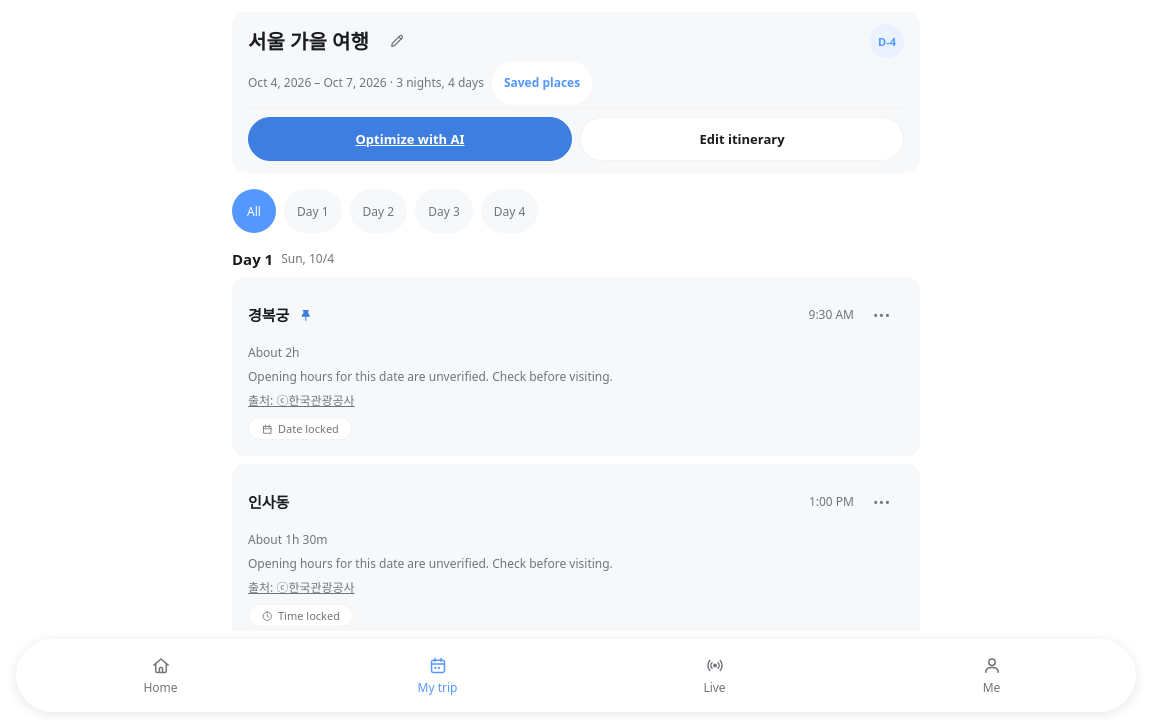
Test case: FE-301-T3 the screen is reachable and named › filters to one day by chip and back to all
Click the button "Day 2": point(378, 211) [350,189,407,233]
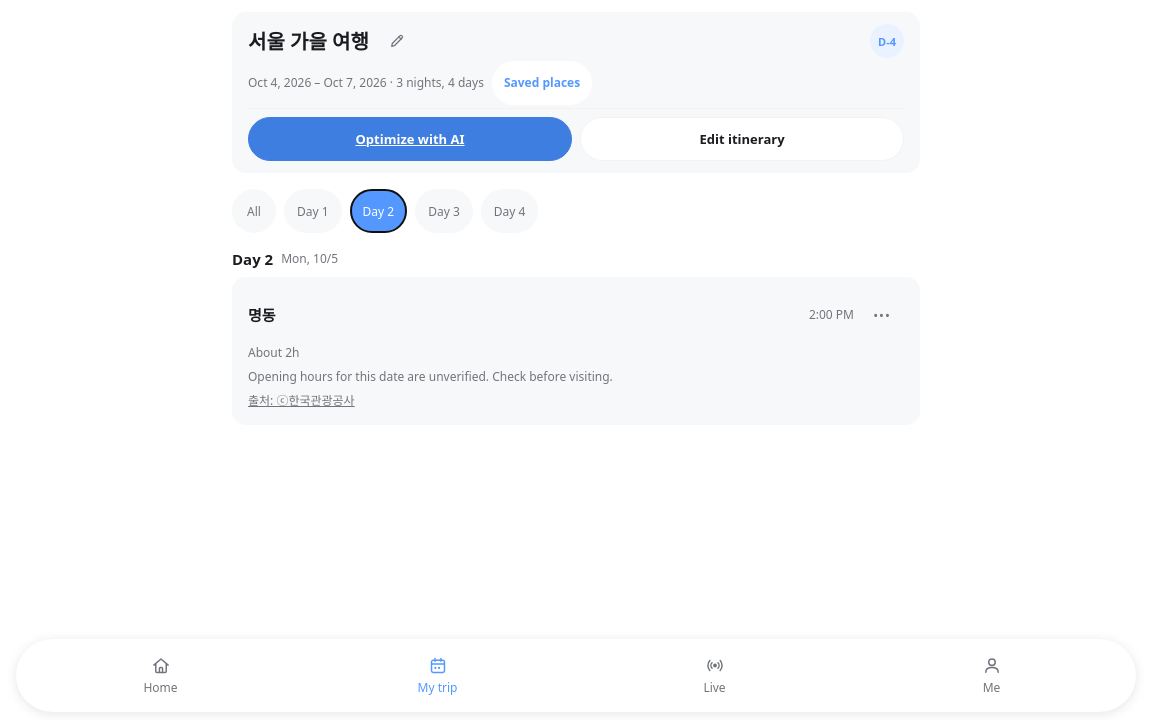
Check: the heading "명동" is shown, box [248,305,276,325]
Check: the heading "경복궁" is gone
Click the button "All": point(254, 211) [232,189,276,233]
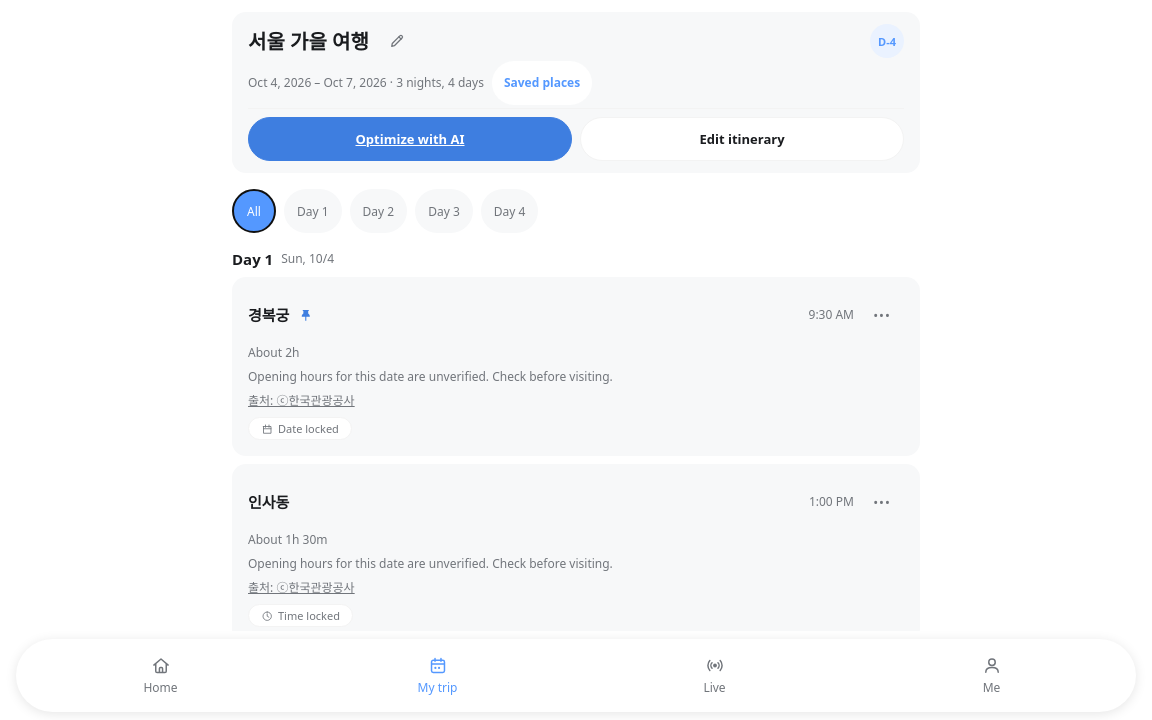
Check: the heading "경복궁" is shown, box [248,305,289,325]
